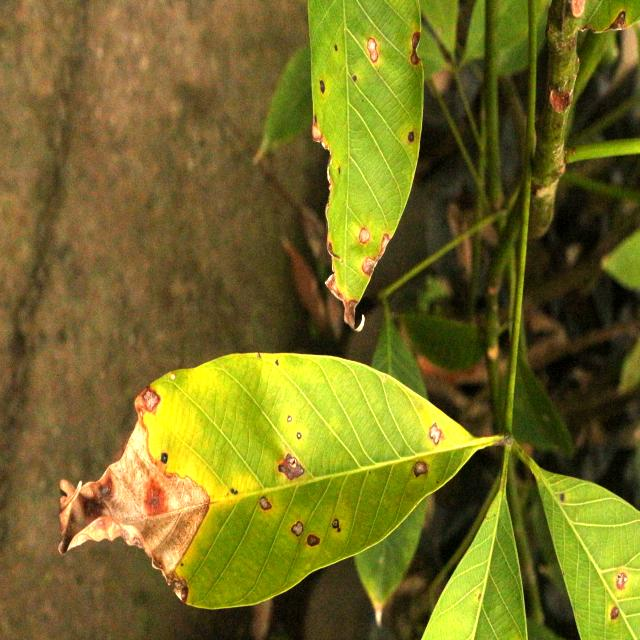Colletotrichum: (414, 459, 426, 478), (359, 227, 370, 245), (291, 521, 304, 536), (260, 496, 272, 511), (610, 606, 619, 620), (408, 130, 414, 143), (161, 453, 168, 463), (320, 80, 325, 94), (332, 518, 338, 529), (296, 432, 302, 440), (287, 415, 292, 423), (560, 494, 565, 502), (353, 75, 357, 81)
Leaf-Blight: (58, 386, 208, 604), (324, 272, 364, 332), (362, 233, 391, 275)
